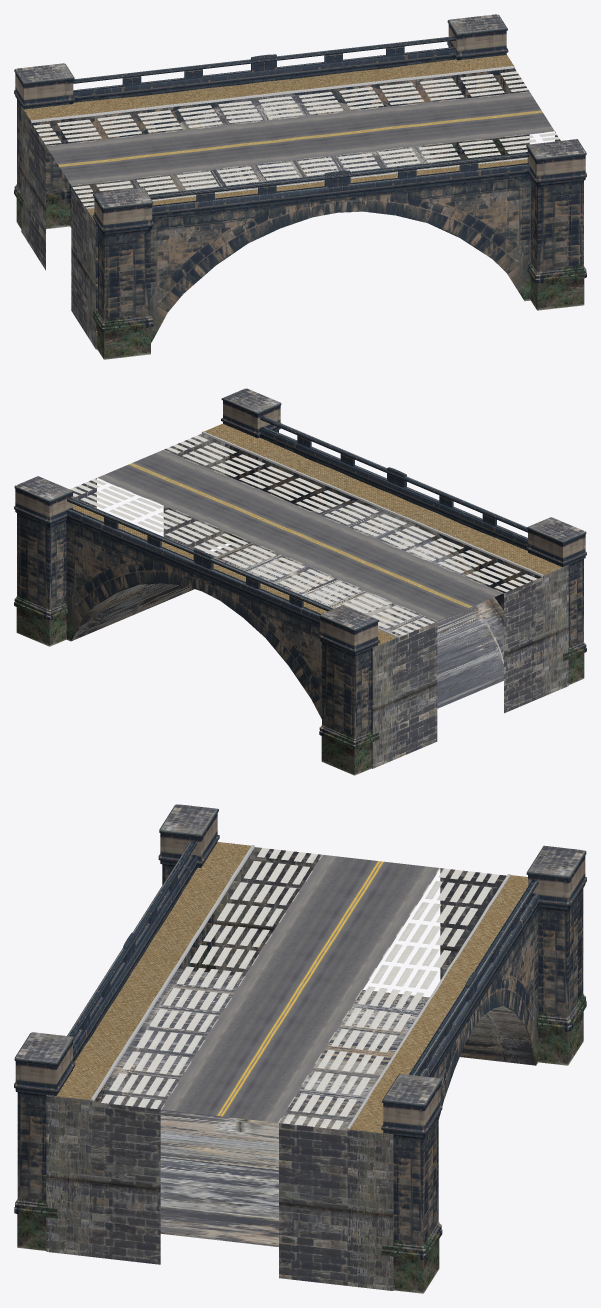
Rendered from BridgeFirst.fbx.
3 views of the same model, one above another, from view 1: azimuth 30°, elevation 25°; view 2: azimuth 150°, elevation 25°; view 3: azimuth 270°, elevation 25° (orthographic). The views are drawn at different scales.
Parts seen in each view (by area): view 1: BridgeFirst; view 2: BridgeFirst; view 3: BridgeFirst.
Part boxes in pixels (left/top/right/bottom): BridgeFirst: left=14, top=14, right=586, bottom=359; BridgeFirst: left=14, top=388, right=586, bottom=775; BridgeFirst: left=14, top=804, right=586, bottom=1293.
Size of the model in its own units: 3773 by 1110 by 3030.
